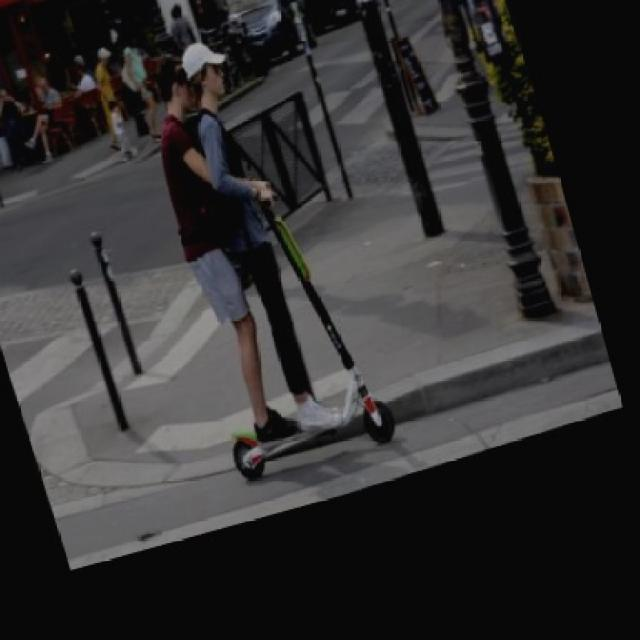bare_head: (186, 45, 243, 107), (153, 61, 196, 124)
human: (187, 40, 351, 426), (151, 65, 299, 439)
kickboard: (226, 409, 425, 484)
